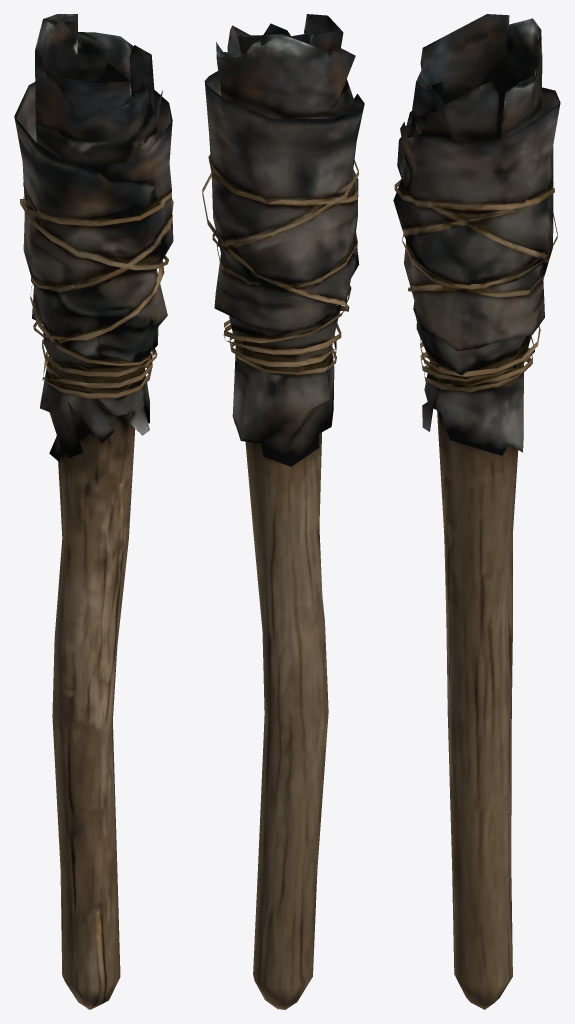
Rendered from torch.glb.
3 views of the same model, side by side, from view 1: azimuth 30°, elevation 25°; view 2: azimuth 150°, elevation 25°; view 3: azimuth 270°, elevation 25° (orthographic). The views are drawn at different scales.
Parts seen in each view (by area): view 1: geometry_0; view 2: geometry_0; view 3: geometry_0.
Part boxes in pixels (left/top/right/bottom): geometry_0: left=14, top=14, right=173, bottom=1009; geometry_0: left=202, top=14, right=364, bottom=1009; geometry_0: left=393, top=14, right=560, bottom=1009.
Bounding box in the file's own units: 0.164 × 1.16 × 0.18.
Materials: 1 (1 with a texture image).
